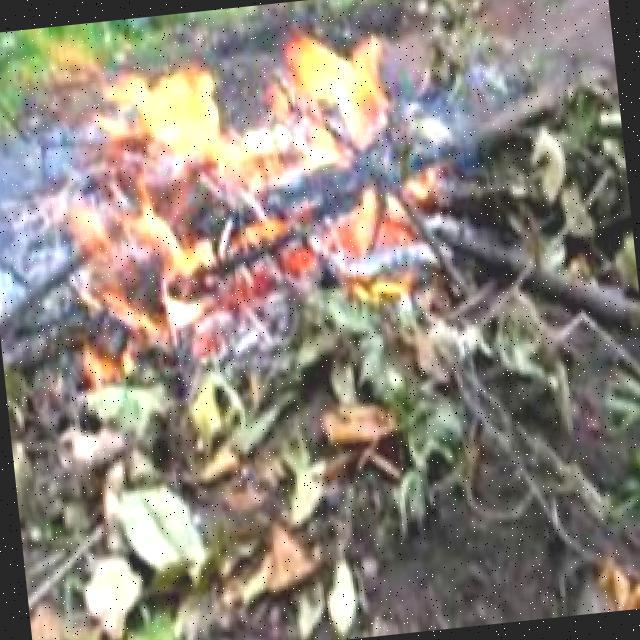Fire: (34, 11, 464, 366)
